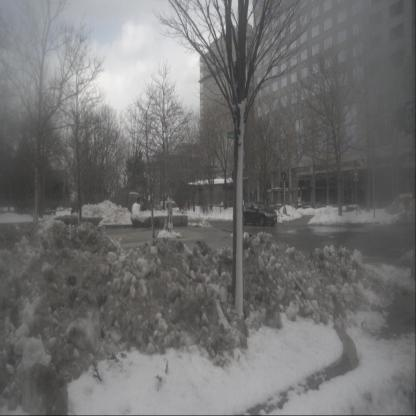vehicle-car: (242, 202, 277, 226), (160, 200, 180, 218)
